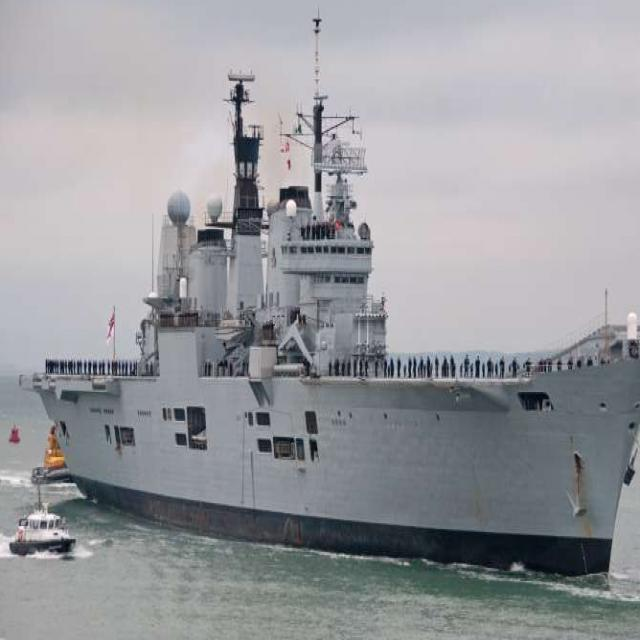Portanaves: (20, 1, 640, 593)
